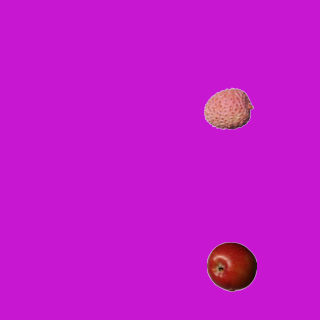Apple Braeburn: (206, 241, 256, 291)
Lychee: (203, 83, 253, 133)
